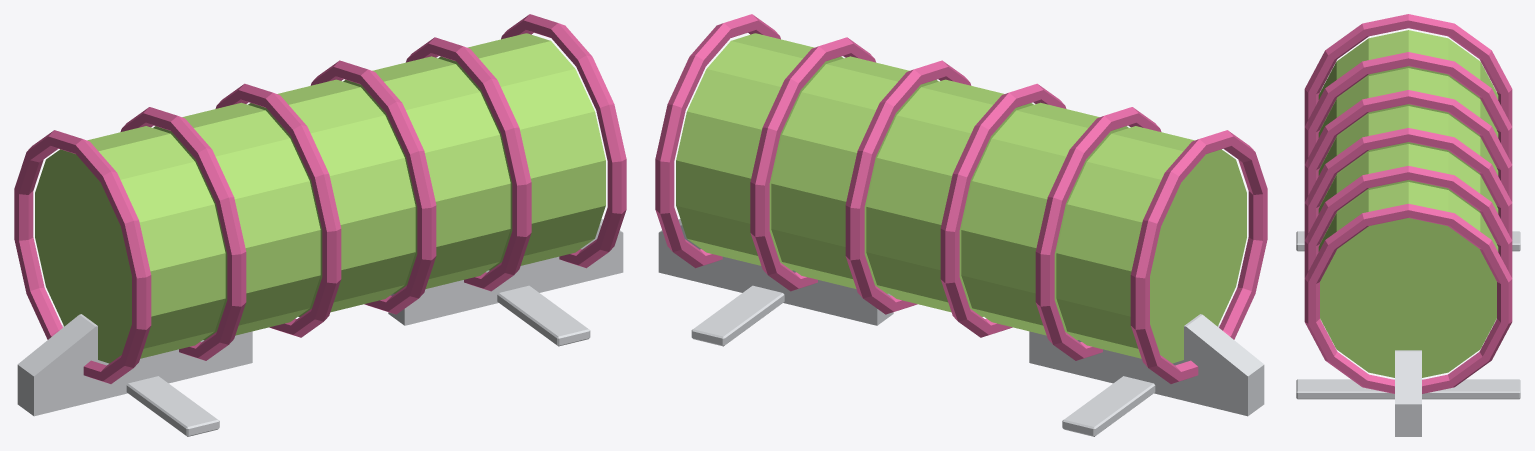
File: trampoline-park-and-soft-play-crawl-tunnel-lime-7c155293__34623.glb
3 views of the same model, side by side, from view 1: azimuth 30°, elevation 25°; view 2: azimuth 150°, elevation 25°; view 3: azimuth 270°, elevation 25° (orthographic). The views are drawn at different scales.
Parts seen in each view (by area): view 1: crawl-tunnel-lime; view 2: crawl-tunnel-lime; view 3: crawl-tunnel-lime.
Boxes of the visible parts, bbox=[...] form: crawl-tunnel-lime: bbox=[14, 14, 626, 436]; crawl-tunnel-lime: bbox=[655, 14, 1267, 436]; crawl-tunnel-lime: bbox=[1296, 14, 1520, 436].
Bounding box in the file's own units: 2.48 × 1.03 × 1.
